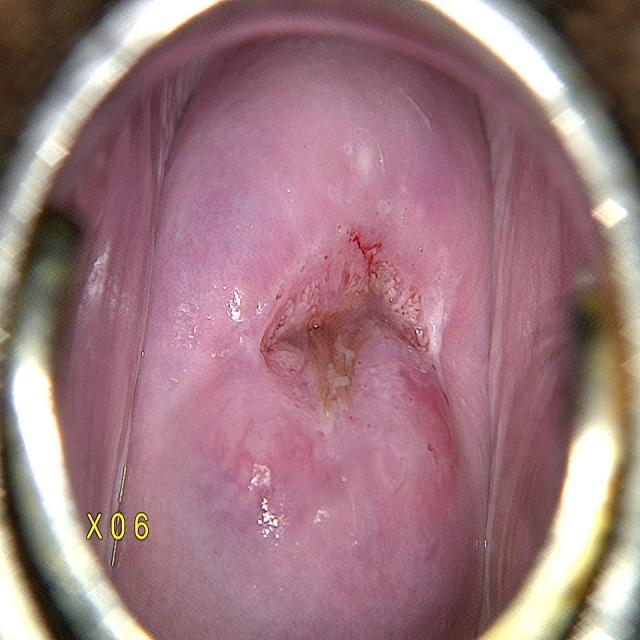cervical_lesion: (163, 169, 503, 583)
